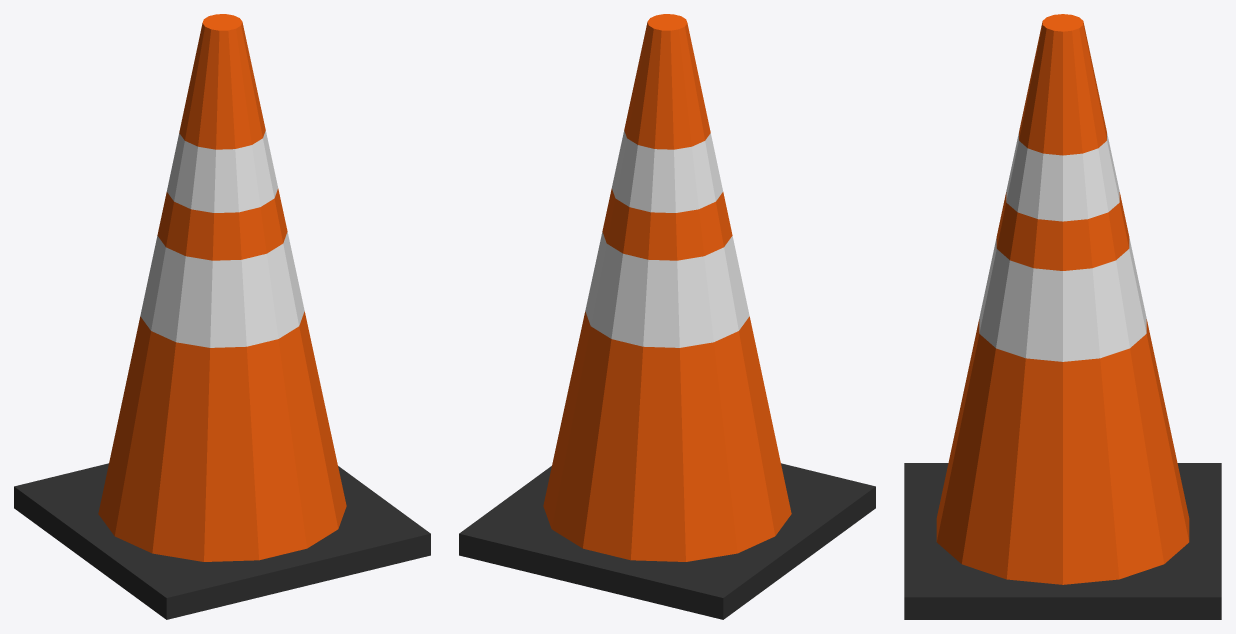
File: SM_TrafficCone.fbx
The picture shows the model from 3 angles, left to right: view 1: azimuth 30°, elevation 25°; view 2: azimuth 150°, elevation 25°; view 3: azimuth 270°, elevation 25°; orthographic projection. The views are drawn at different scales.
Parts seen in each view (by area): view 1: SM_TrafficCone; view 2: SM_TrafficCone; view 3: SM_TrafficCone.
Boxes of the visible parts, left/top/right/bottom form: SM_TrafficCone: left=14, top=14, right=430, bottom=619; SM_TrafficCone: left=459, top=14, right=875, bottom=619; SM_TrafficCone: left=904, top=14, right=1221, bottom=619.
Bounding box in the file's own units: 38 × 38 × 70.
